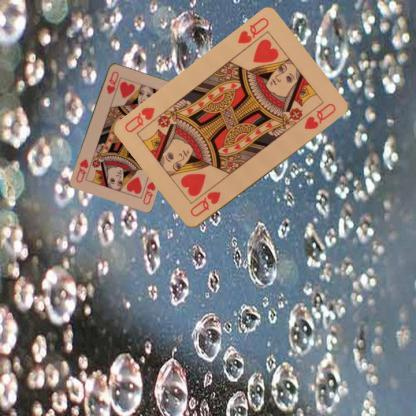Qh: (235, 15, 270, 46), (188, 189, 223, 218), (104, 68, 120, 96), (140, 178, 156, 206)
